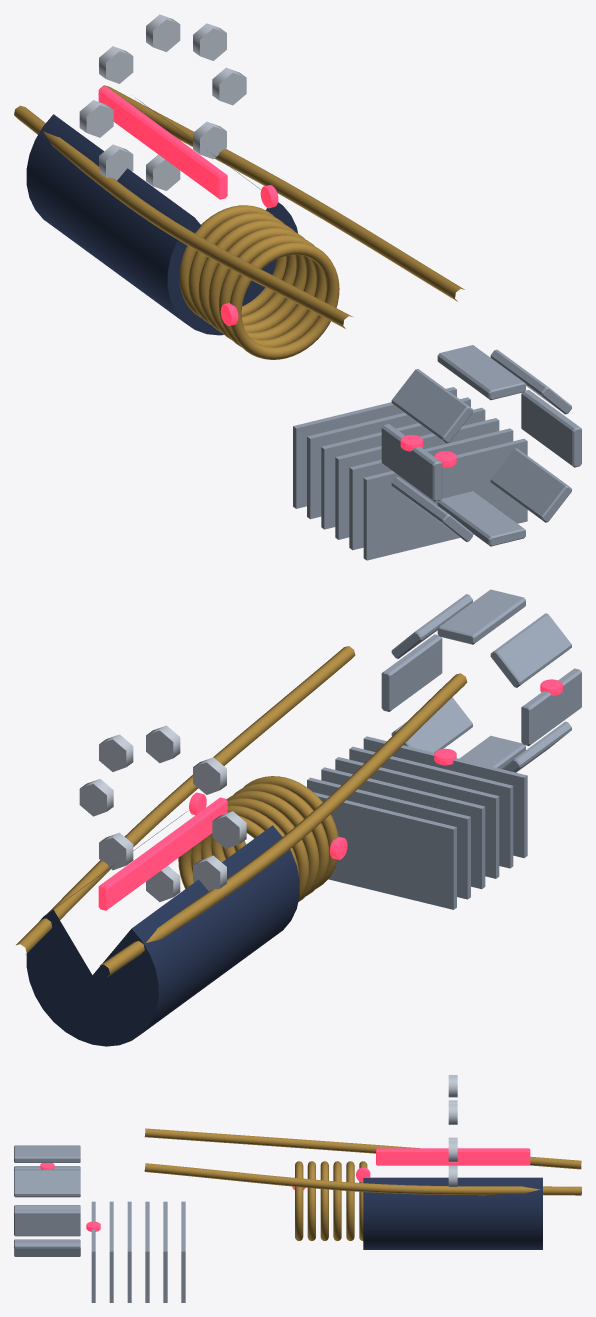
Rendered from tower_filament_ramp_s6.glb.
3 renders of one model, top to bottom at view 1: azimuth 30°, elevation 25°; view 2: azimuth 150°, elevation 25°; view 3: azimuth 270°, elevation 25°, orthographic. The views are drawn at different scales.
Parts seen in each view (by area): view 1: filament_radiator_b, filament_heat_shroud, filament_shroud_bolts, filament_heat_pipe_r, filament_heat_pipe_l, filament_shroud_glow, filament_coil_sleeve0, filament_breech_fin1, filament_breech_fin5, filament_breech_fin4, filament_coil_sleeve2, filament_breech_fin2 (+8 smaller); view 2: filament_radiator_b, filament_heat_shroud, filament_shroud_bolts, filament_heat_pipe_r, filament_heat_pipe_l, filament_shroud_glow, filament_breech_fin1, filament_breech_fin4, filament_breech_fin2, filament_breech_fin0, filament_breech_fin5, filament_coil_sleeve2 (+8 smaller); view 3: filament_heat_shroud, filament_heat_pipe_l, filament_radiator_b, filament_heat_pipe_r, filament_shroud_glow, filament_breech_fin3, filament_breech_fin4, filament_breech_fin2, filament_breech_fin5, filament_shroud_bolts, filament_coil_sleeve3, filament_coil_sleeve4 (+5 smaller).
Boxes of the visible parts, box(x1,y1,x2,y2) form: filament_radiator_b: box(293, 387, 527, 560); filament_heat_shroud: box(26, 99, 297, 335); filament_shroud_bolts: box(79, 14, 246, 190); filament_heat_pipe_r: box(14, 105, 353, 328); filament_heat_pipe_l: box(98, 85, 464, 301); filament_shroud_glow: box(98, 86, 227, 199); filament_coil_sleeve0: box(229, 242, 339, 359); filament_breech_fin1: box(391, 369, 472, 443); filament_breech_fin5: box(490, 448, 571, 522); filament_breech_fin4: box(521, 390, 581, 467); filament_coil_sleeve2: box(208, 227, 316, 339); filament_breech_fin2: box(437, 345, 525, 400); filament_radiator_b: box(307, 736, 527, 909); filament_heat_shroud: box(26, 811, 299, 1046); filament_shroud_bolts: box(79, 725, 246, 901); filament_heat_pipe_r: box(100, 673, 467, 977); filament_heat_pipe_l: box(16, 646, 355, 954); filament_shroud_glow: box(98, 797, 227, 910); filament_breech_fin1: box(490, 613, 571, 687); filament_breech_fin4: box(381, 634, 442, 711); filament_breech_fin2: box(437, 589, 525, 644); filament_breech_fin0: box(521, 668, 581, 745); filament_breech_fin5: box(391, 697, 472, 752); filament_coil_sleeve2: box(211, 791, 319, 901); filament_heat_shroud: box(363, 1177, 542, 1249); filament_heat_pipe_l: box(144, 1163, 581, 1195); filament_radiator_b: box(91, 1201, 185, 1302); filament_heat_pipe_r: box(144, 1128, 581, 1169); filament_shroud_glow: box(376, 1148, 530, 1165); filament_breech_fin3: box(14, 1170, 80, 1197); filament_breech_fin4: box(14, 1209, 80, 1236); filament_breech_fin2: box(14, 1146, 80, 1162); filament_breech_fin5: box(14, 1242, 80, 1256); filament_shroud_bolts: box(448, 1075, 457, 1186); filament_coil_sleeve3: box(333, 1161, 341, 1240); filament_coil_sleeve4: box(346, 1161, 354, 1240).
Bounding box in the file's own units: 0.46 × 0.865 × 2.21.
